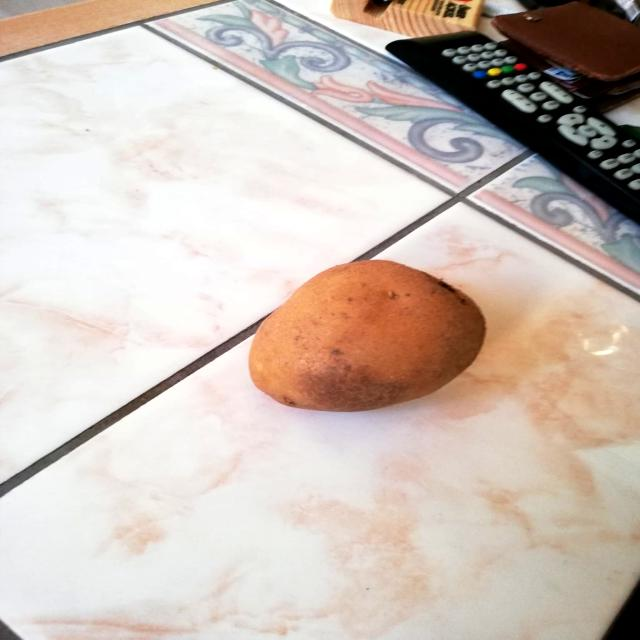potato: (243, 253, 490, 416)
